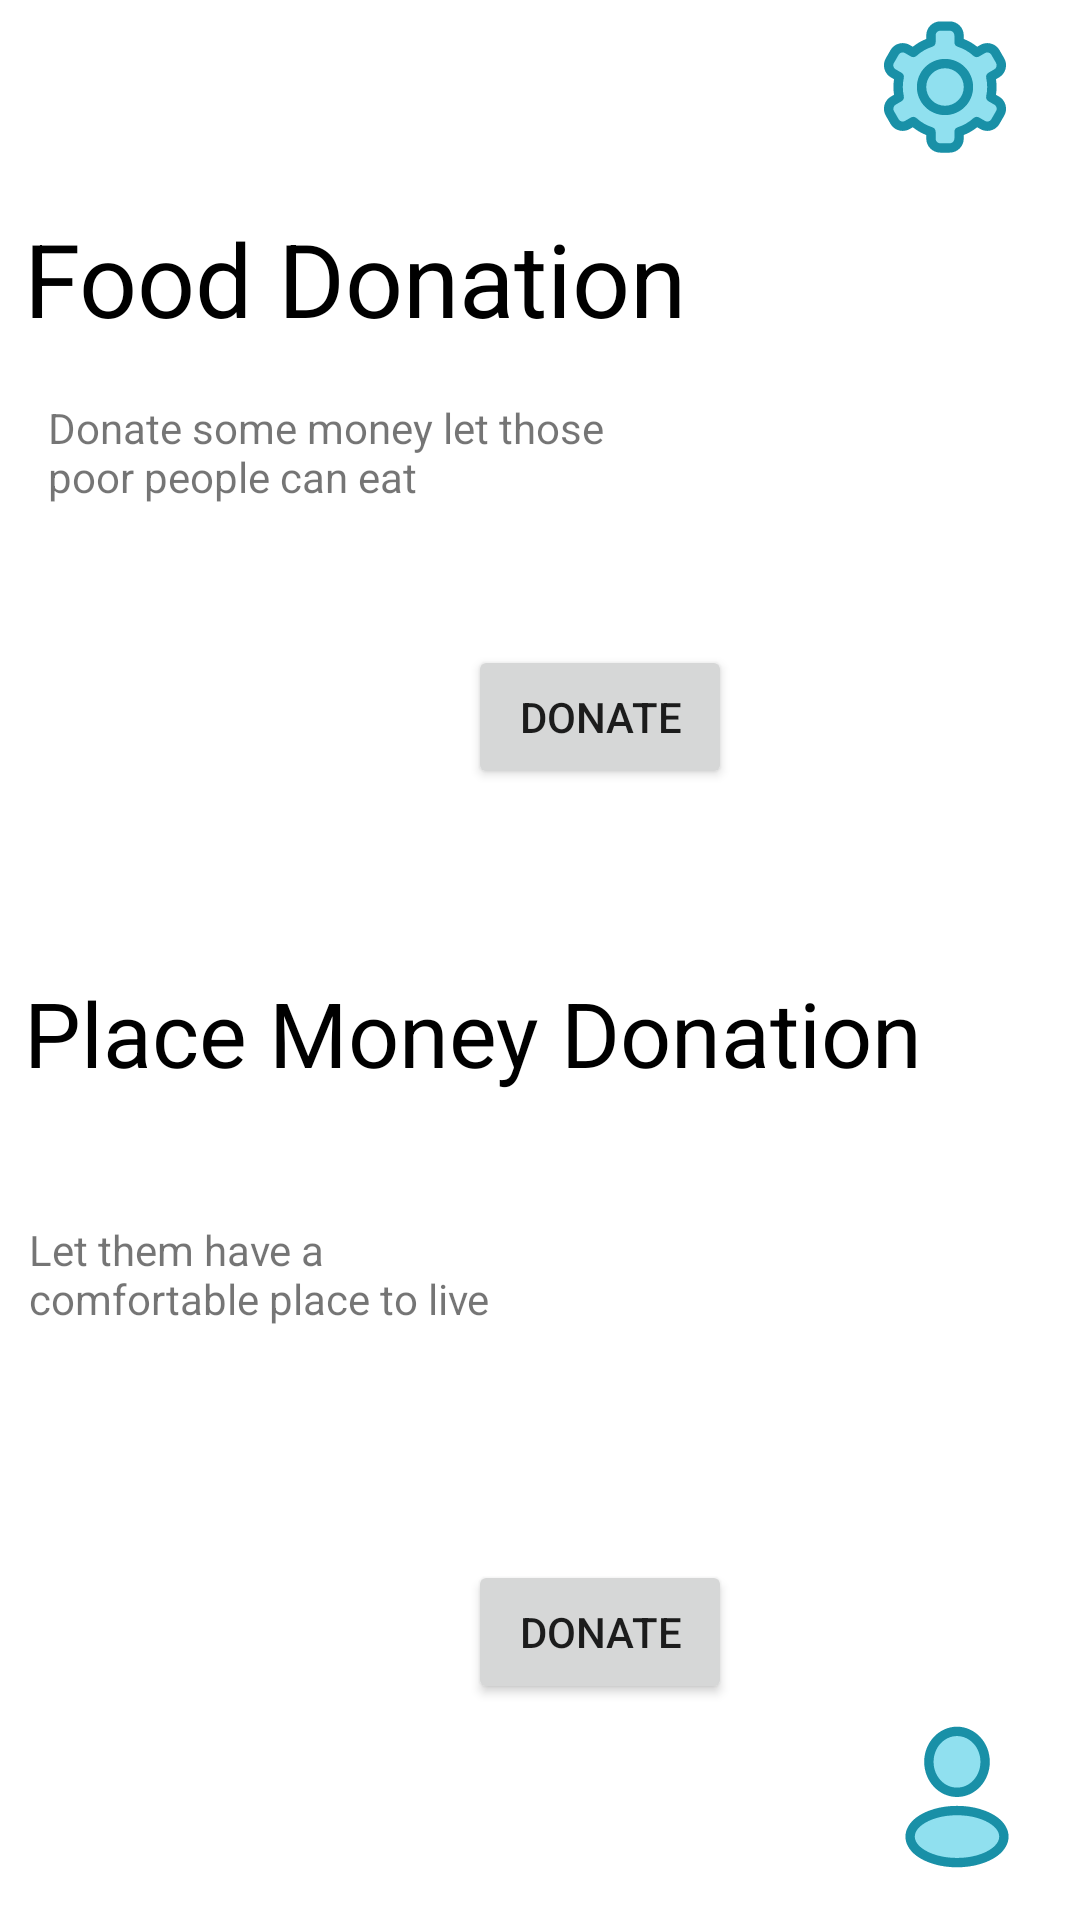

Where icons sit on this 1080 × 1920 app screen, as [x1, y1, x2, y2]:
profile: [905, 1726, 1009, 1868]
setting: [884, 21, 1006, 153]
